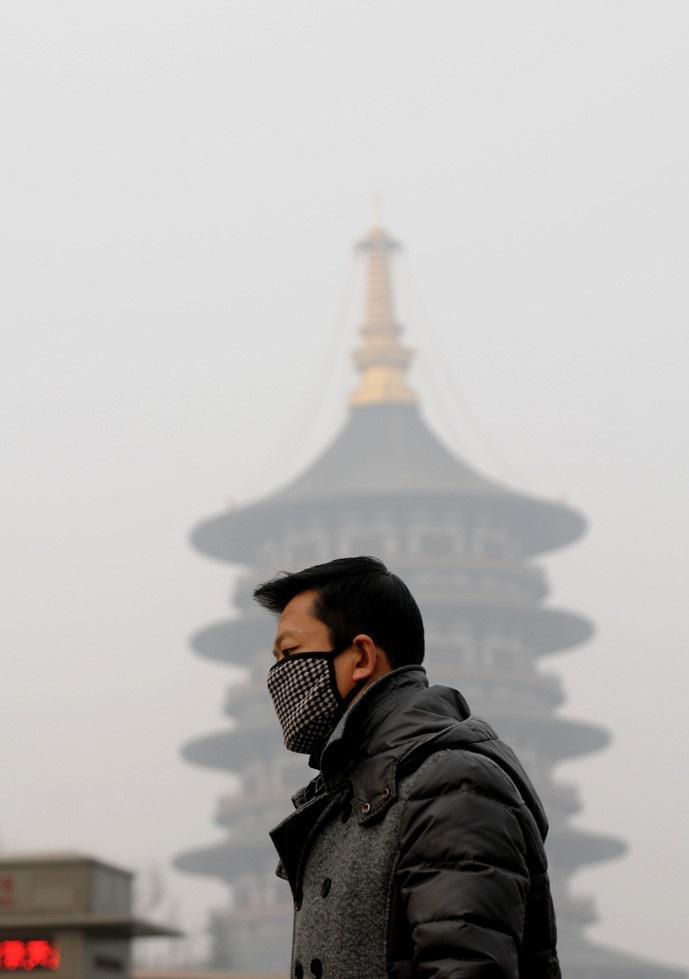OK: (264, 623, 380, 747)
